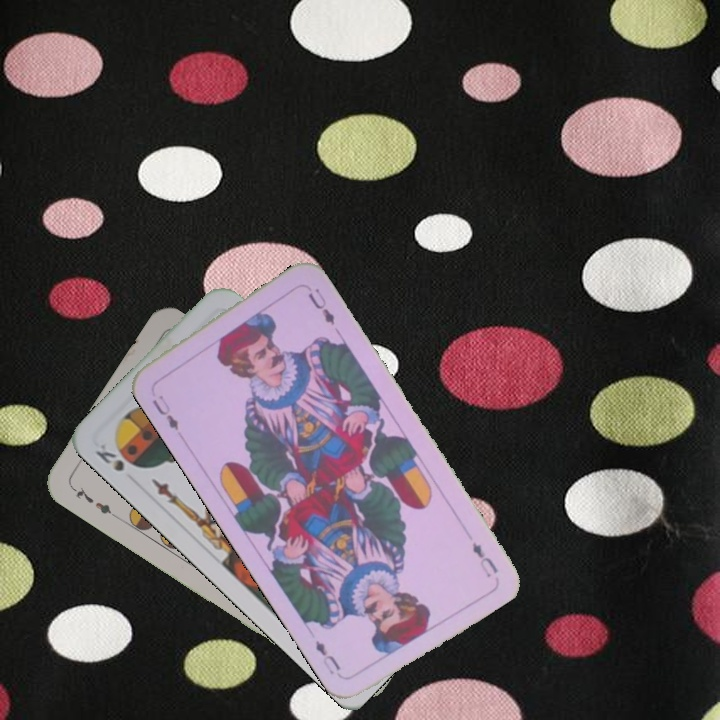E7: (67, 482, 120, 521)
EU: (148, 390, 182, 433), (468, 538, 501, 581)
SK: (91, 439, 128, 474)
